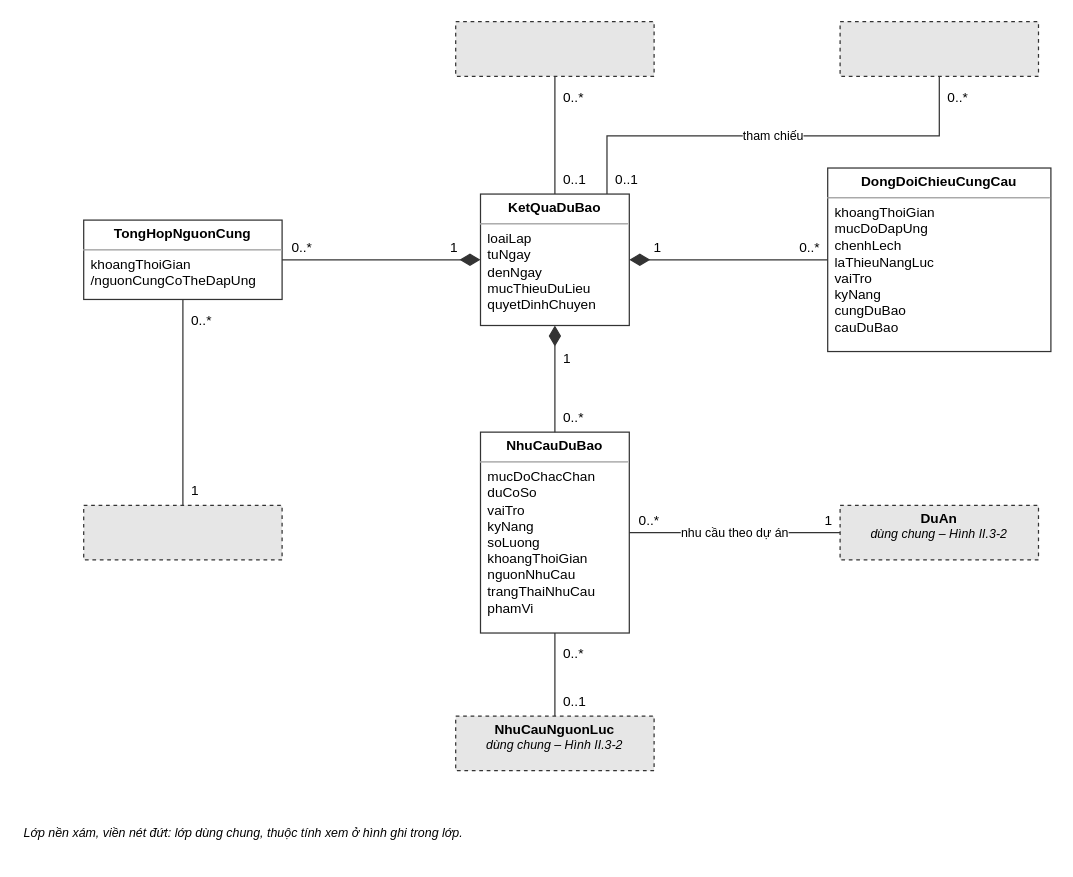
The diagram is 1073 pixels wide and 877 high, and some of its shapes have lost their labels. The shapes that lost their labels are listed below. From the top down, each one's box as (x1, y1, x2, y2) in pixels, then its label:
(454, 20, 654, 76): PhanHoiNhuCau dùng chung – Hình II.3-2
(839, 20, 1038, 76): HoSoTrinhDuyet dùng chung – Hình II.3-4
(82, 504, 282, 560): NguonLuc dùng chung – Hình II.3-2
